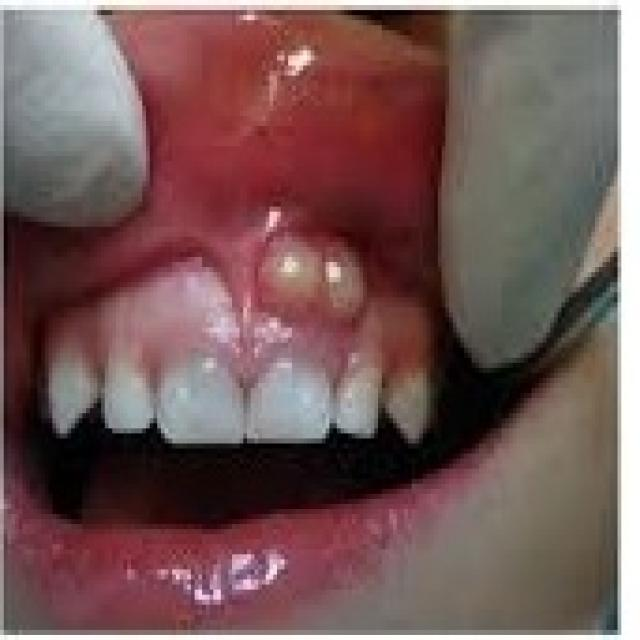abscess: (240, 221, 408, 340)
